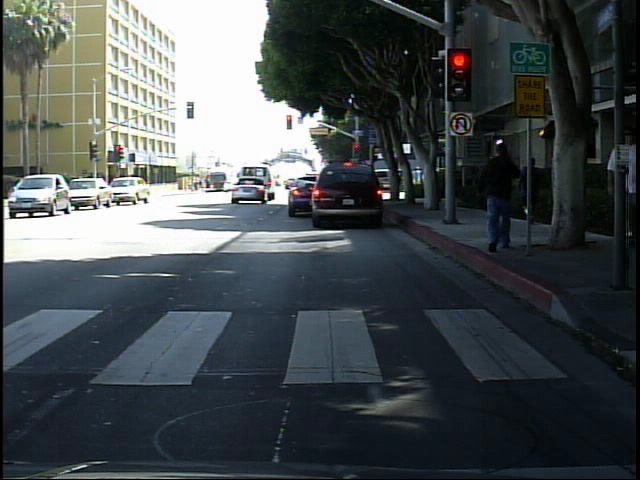person: (476, 130, 528, 263), (600, 127, 638, 242), (515, 142, 552, 229)
